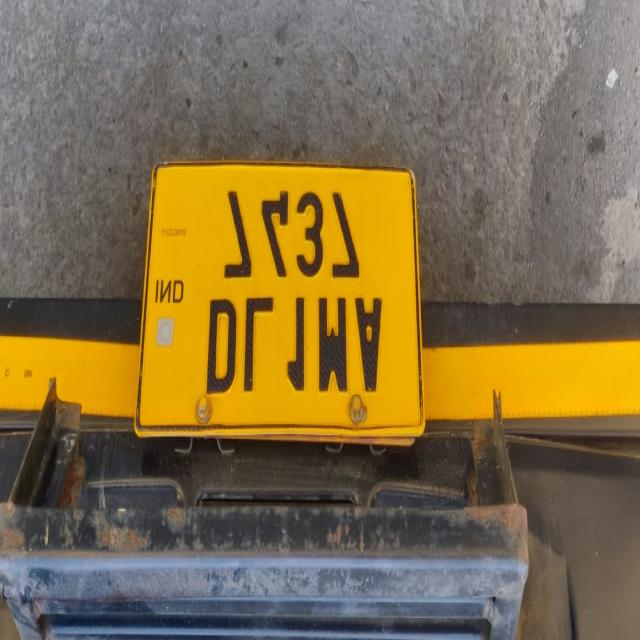License-plate: (148, 163, 399, 430)
